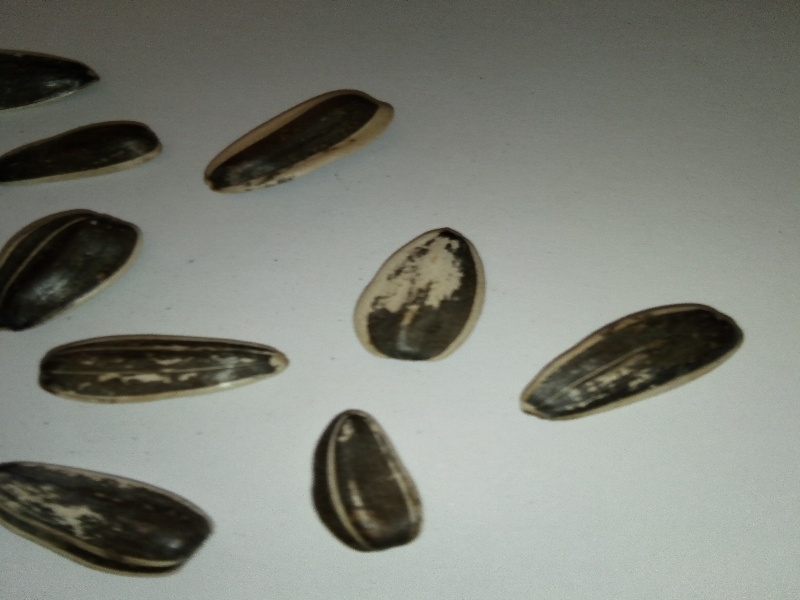girasol: (514, 272, 753, 433), (328, 202, 501, 369), (193, 82, 404, 214), (286, 397, 434, 557), (32, 333, 303, 409)
